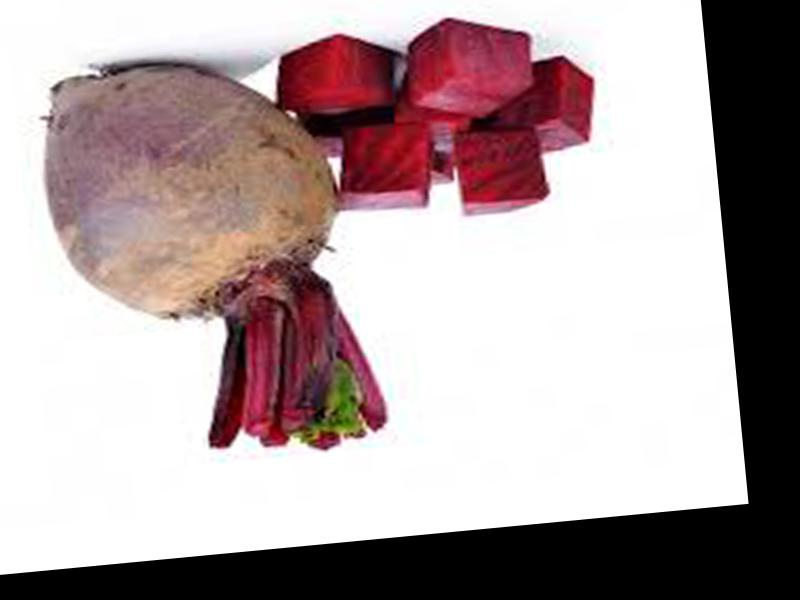Beet: (36, 44, 388, 470)
